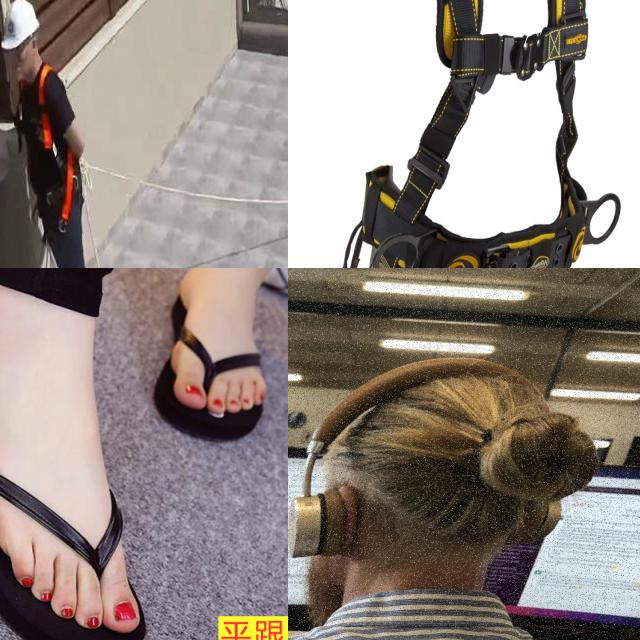Ear-protection: (288, 335, 628, 633)
Harness: (316, 0, 630, 268), (36, 66, 76, 236)
Sandals: (0, 268, 288, 640)
